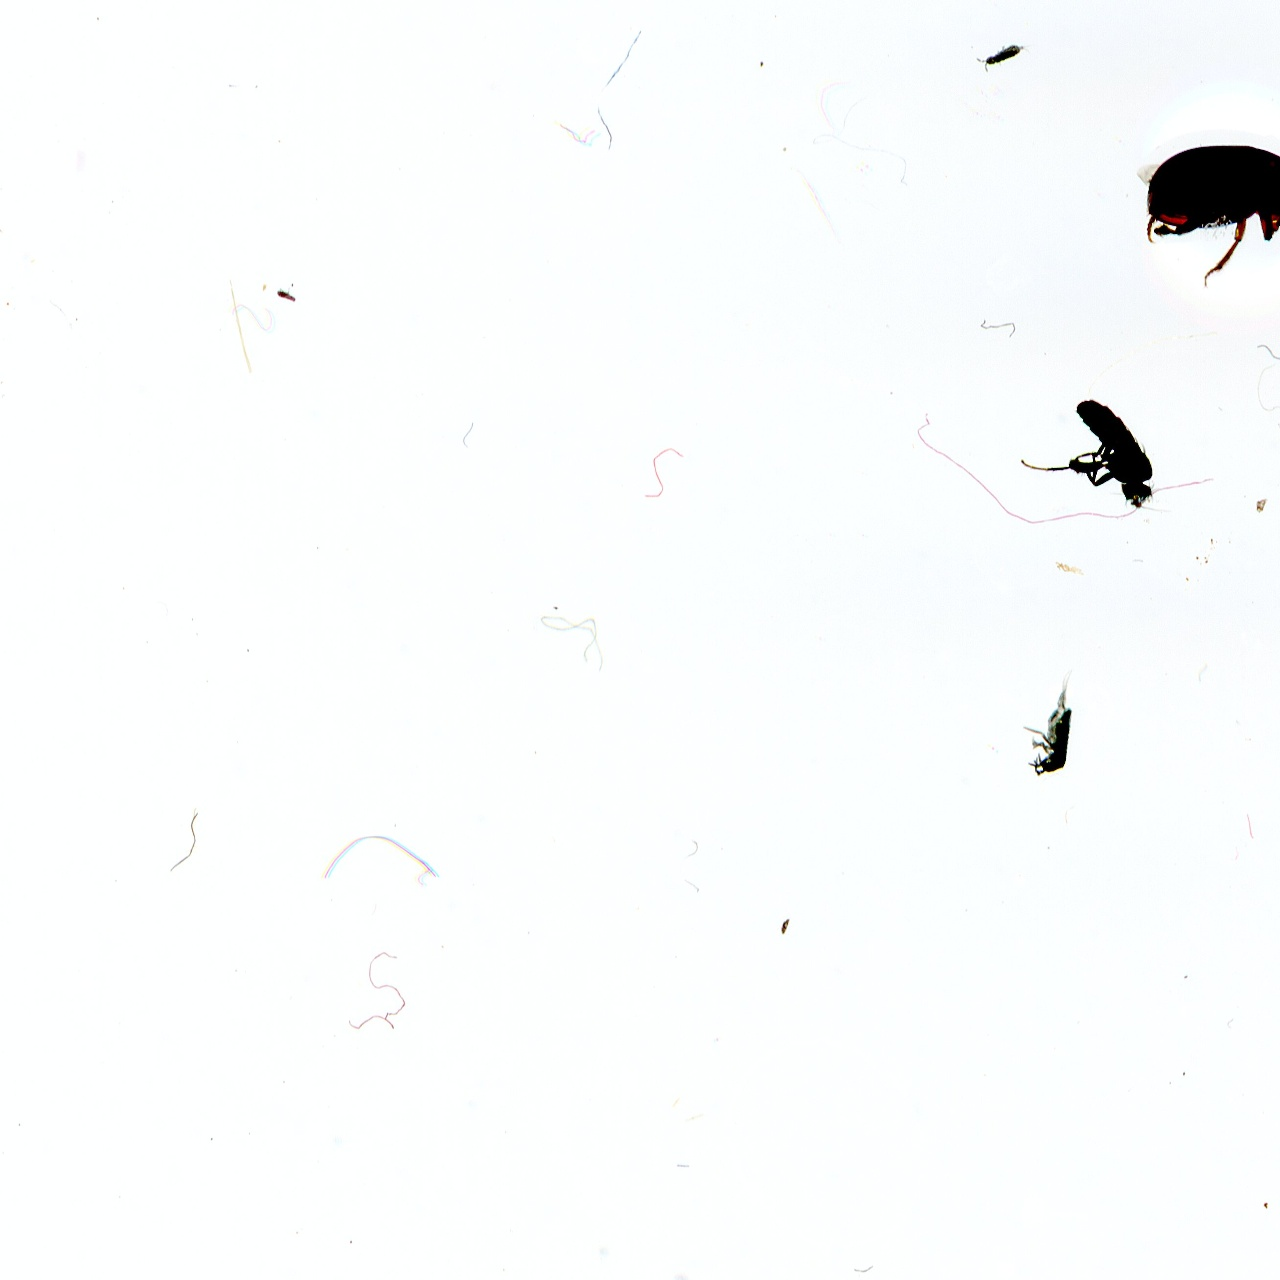arthropod: (1131, 140, 1280, 292), (1008, 391, 1178, 523), (1018, 654, 1083, 789), (971, 38, 1042, 77)
